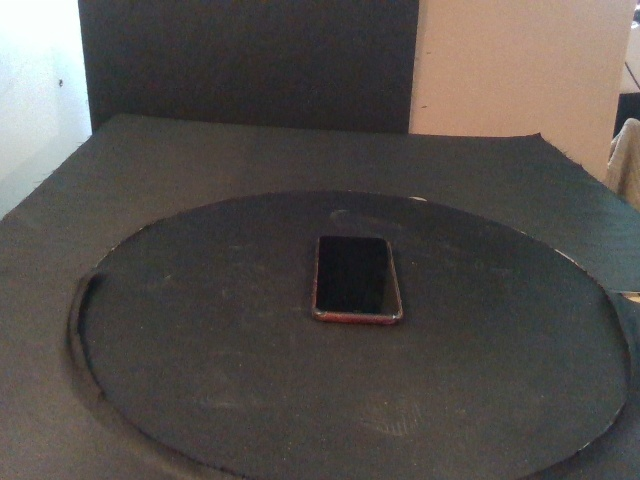phone: (309, 233, 403, 327)
